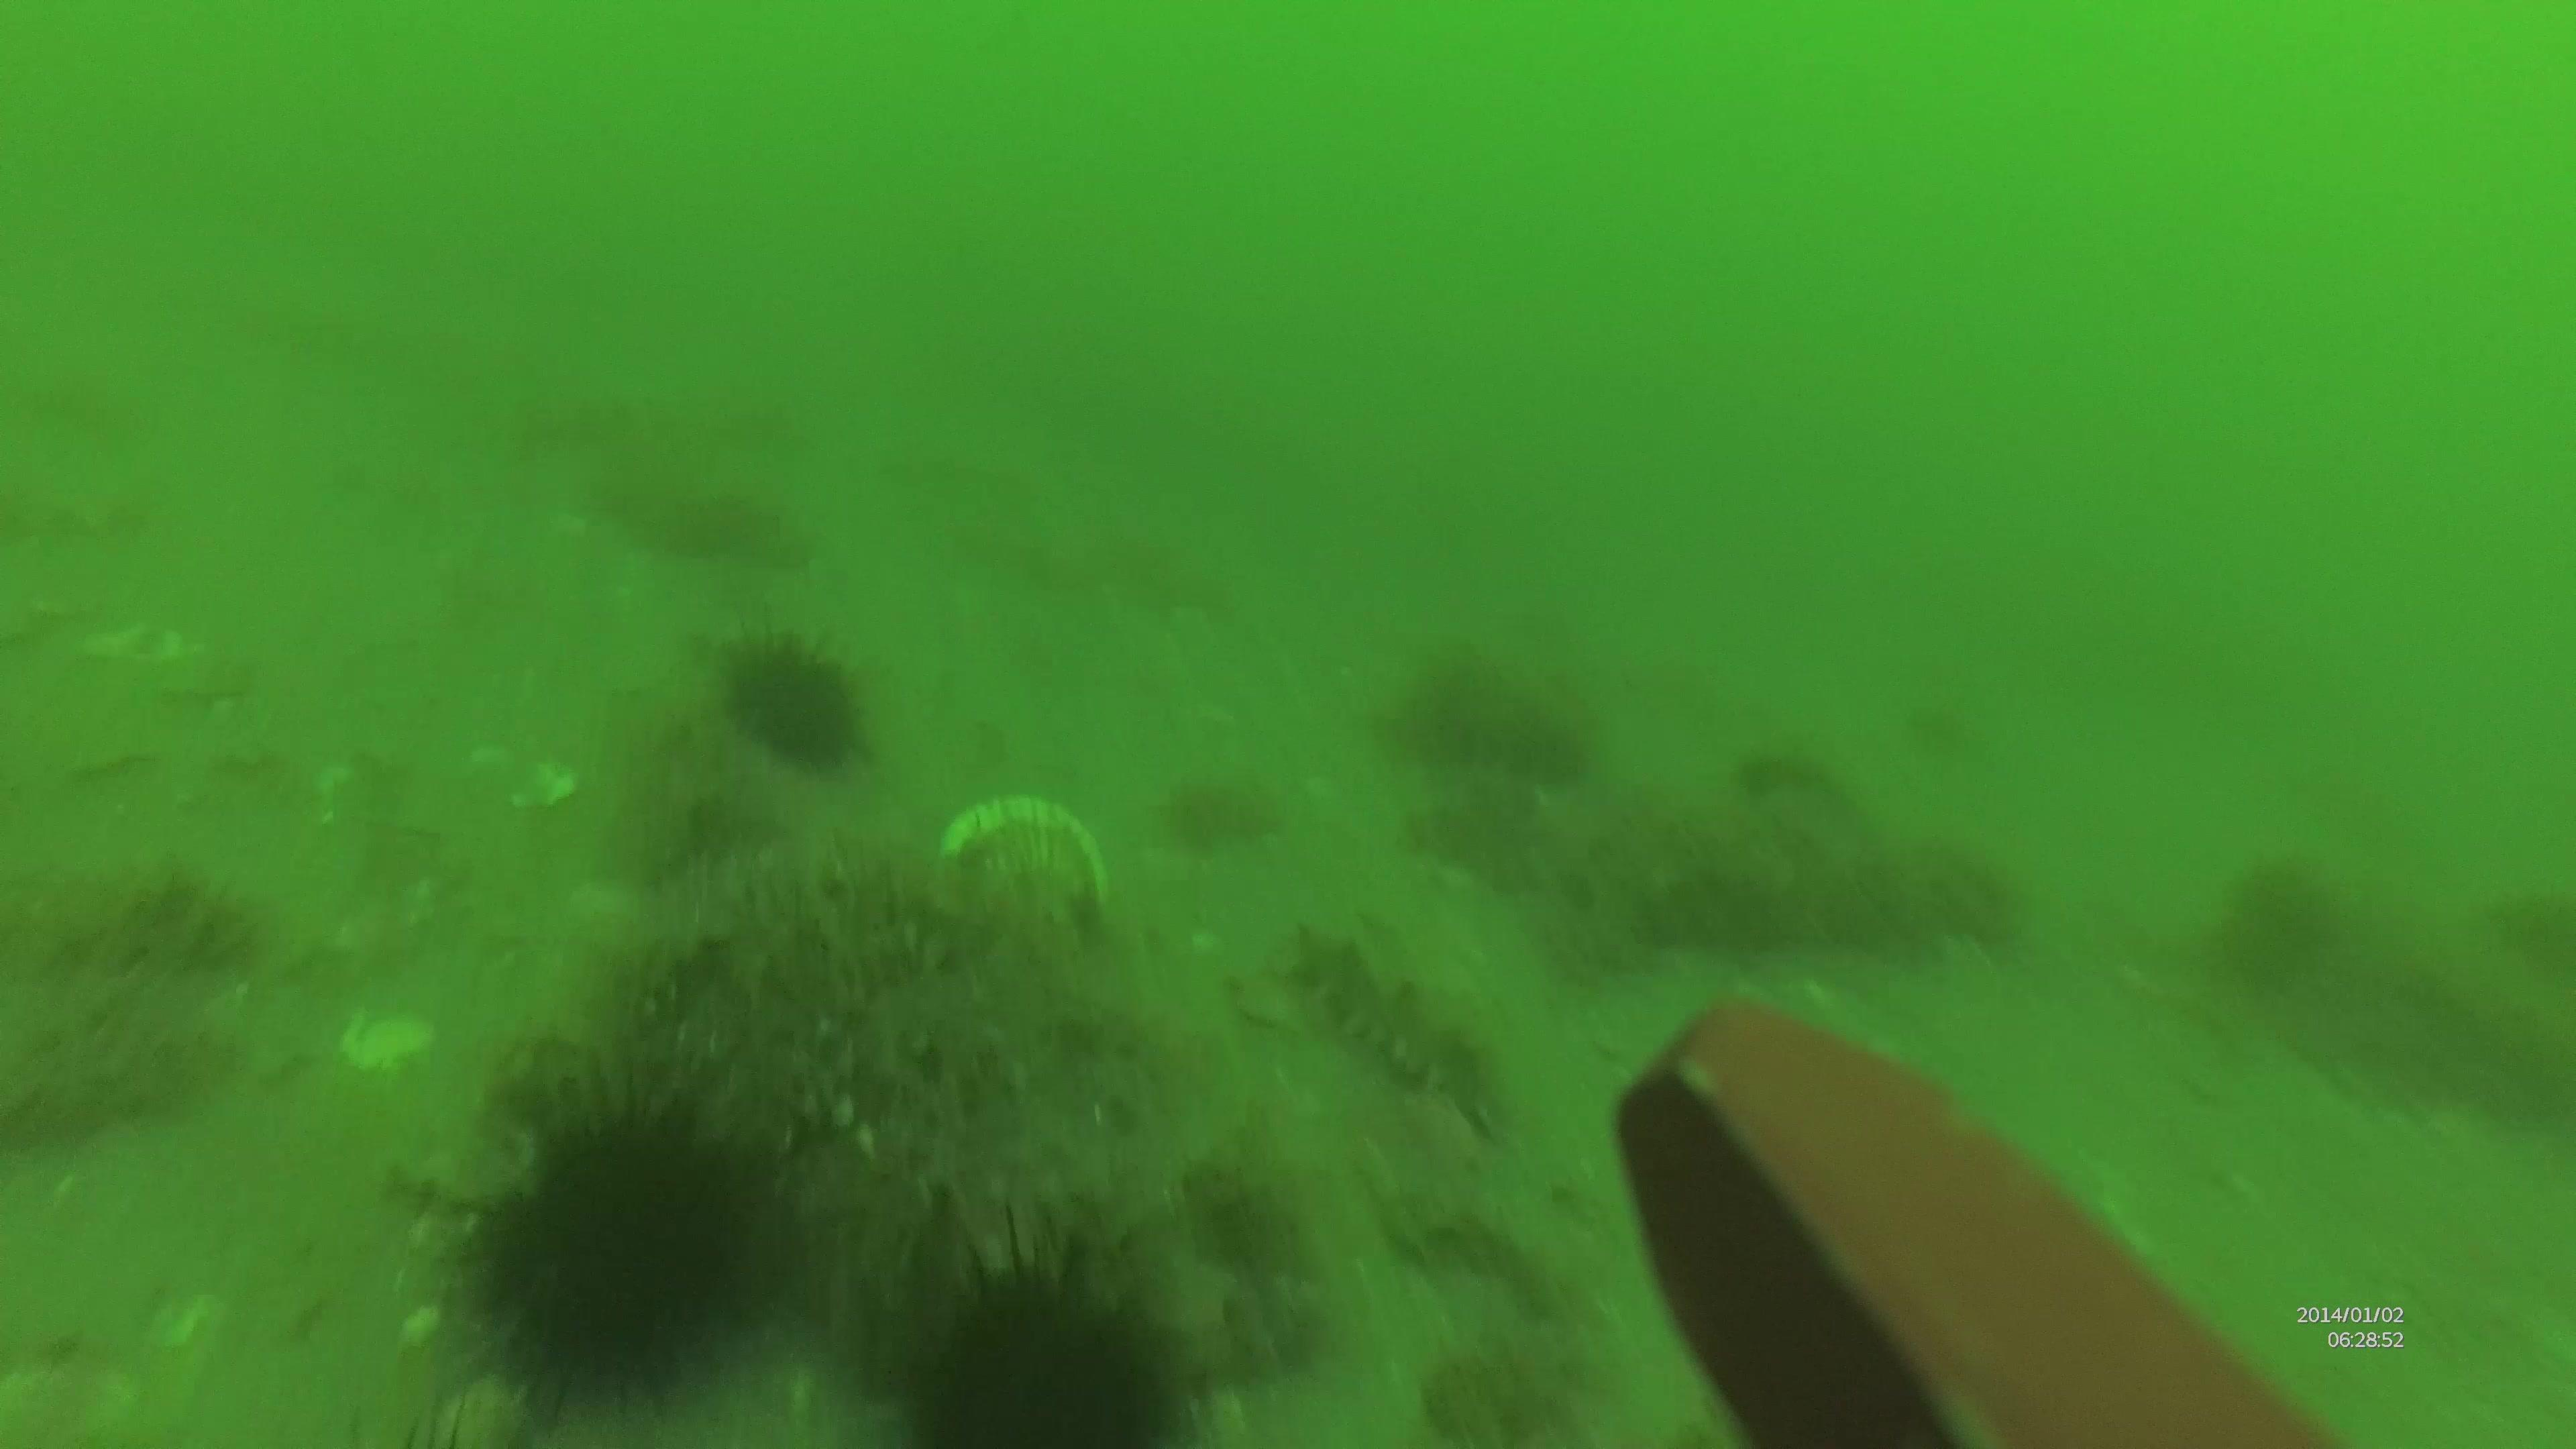echinus: (441, 1079, 798, 1424), (888, 1205, 1171, 1449), (718, 610, 869, 780)
holothurian: (1292, 908, 1506, 1136)
scallop: (941, 793, 1120, 931)
